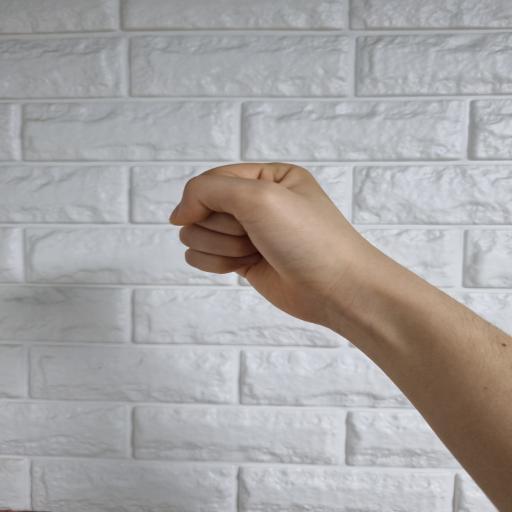Rock: (168, 163, 400, 331)
